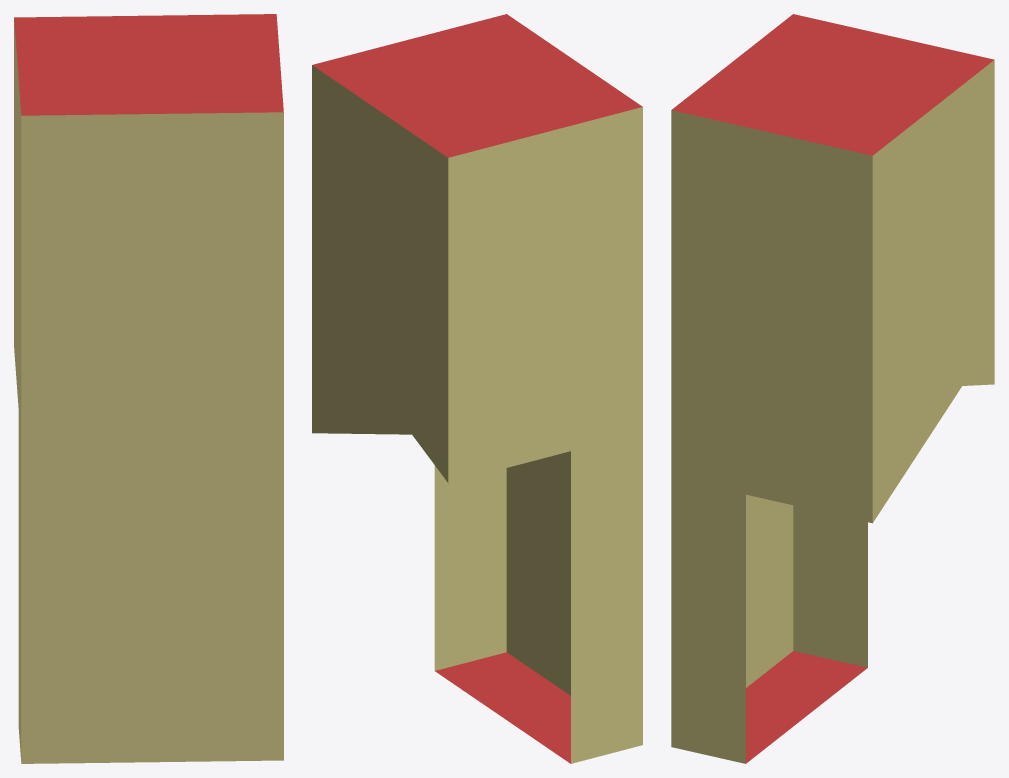
The picture shows the model from 3 angles, left to right: view 1: azimuth 30°, elevation 25°; view 2: azimuth 150°, elevation 25°; view 3: azimuth 270°, elevation 25°; orthographic projection.
Bounding box in the file's own units: 10.34 × 9.97 × 21.66.
